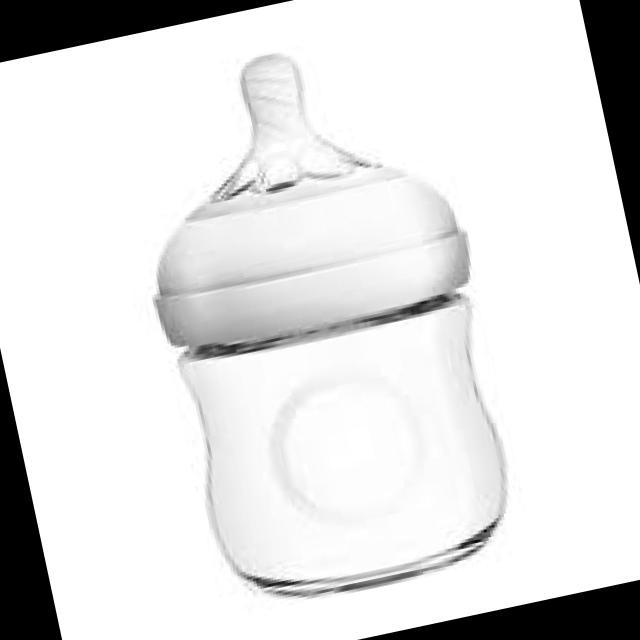good: (64, 26, 614, 636)
